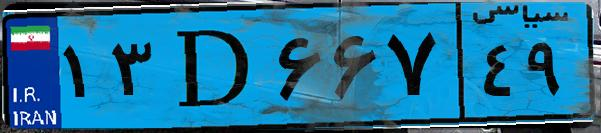1: (57, 26, 110, 100)
3: (110, 28, 158, 98)
4: (475, 38, 525, 113)
6: (270, 28, 330, 110), (330, 28, 385, 110)
7: (385, 28, 445, 110)
9: (525, 38, 570, 115)
D: (158, 12, 270, 120)
